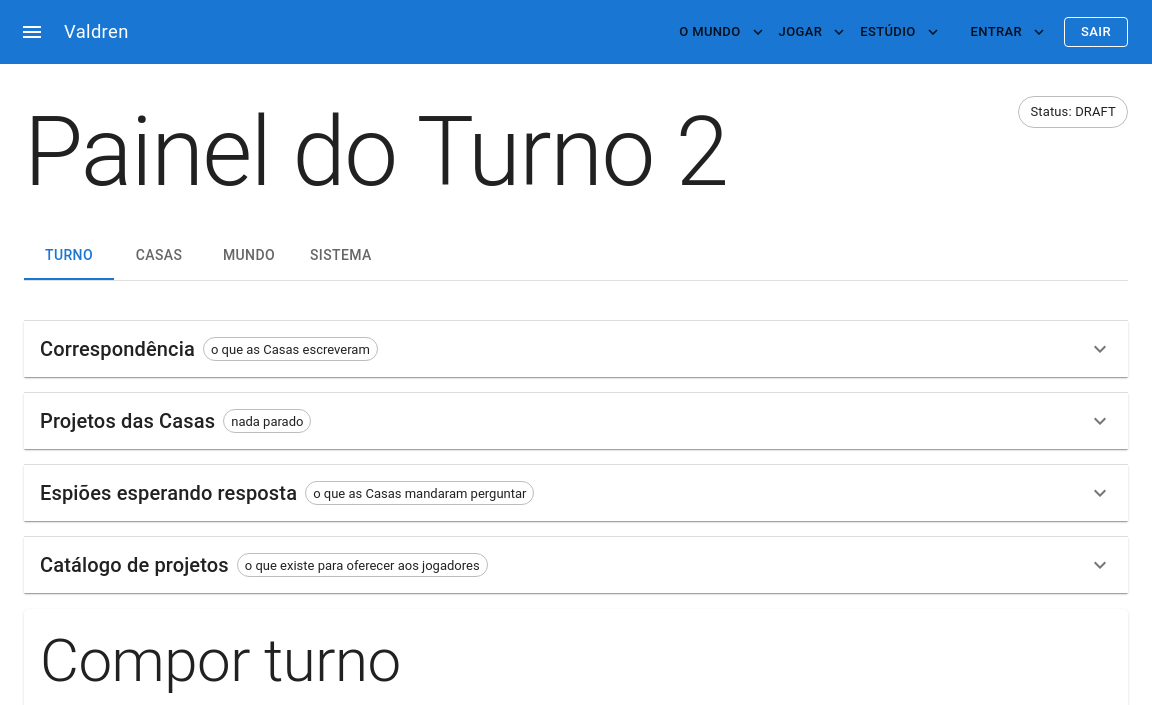
Test: AdminPage › switches between tabs and hides other panels
Check: the heading "Painel do Turno 2" is shown, box [24,96,727,208]
Check: the heading "Compor turno" is shown, box [40,625,401,696]
Click the tab "Mundo" at {"x": 249, "y": 256}, box [204,232,294,280]
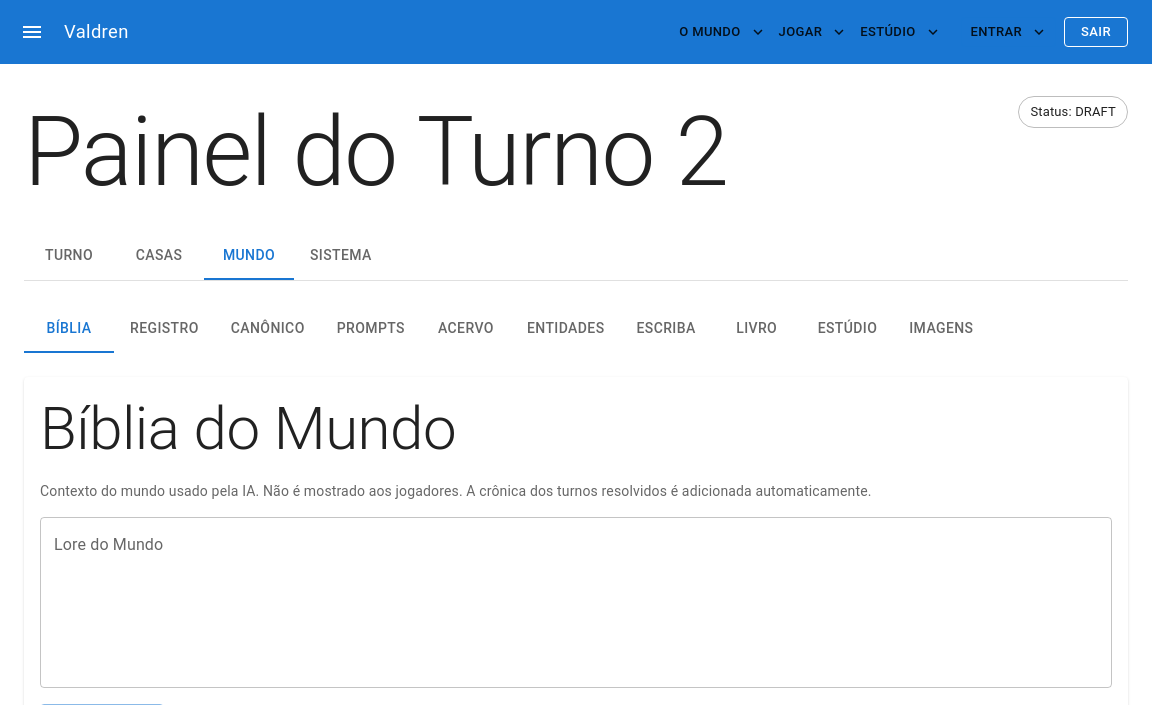
Check: the heading "Bíblia do Mundo" is shown, box [40,393,456,464]
Check: the heading "Compor turno" is gone
Click the tab "Prompts" at {"x": 371, "y": 329}, box [321,305,421,353]
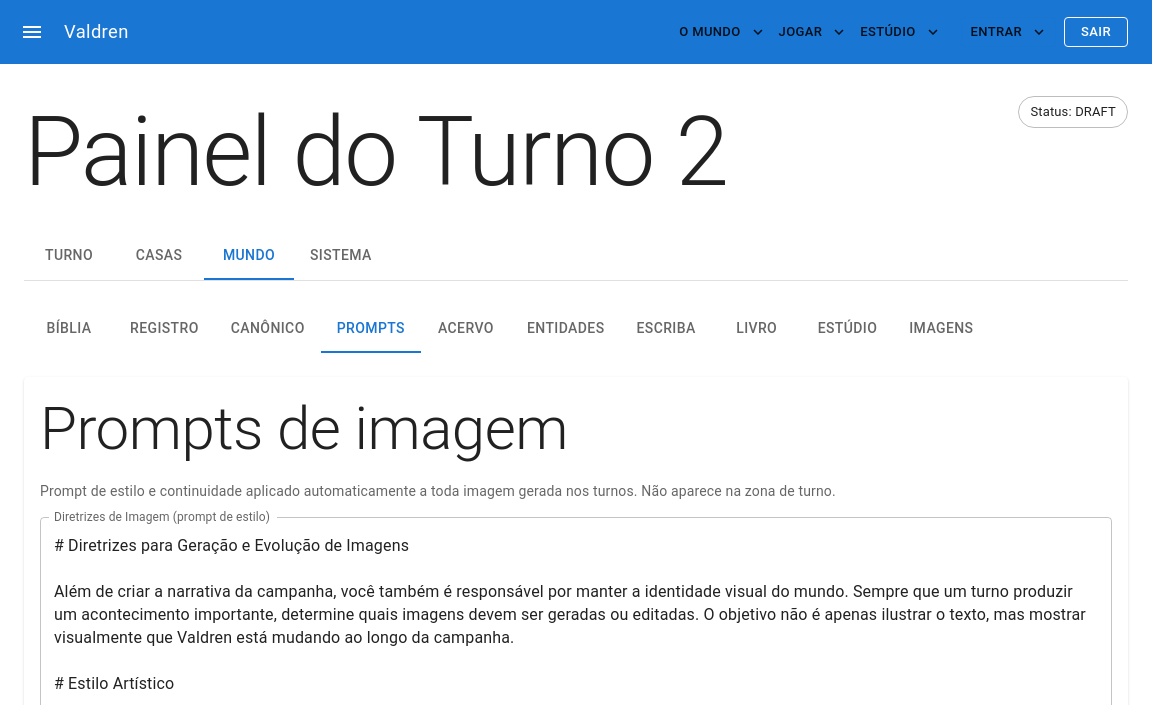
Check: the heading "Prompts de imagem" is shown, box [40,393,568,464]
Check: the heading "Bíblia do Mundo" is gone
